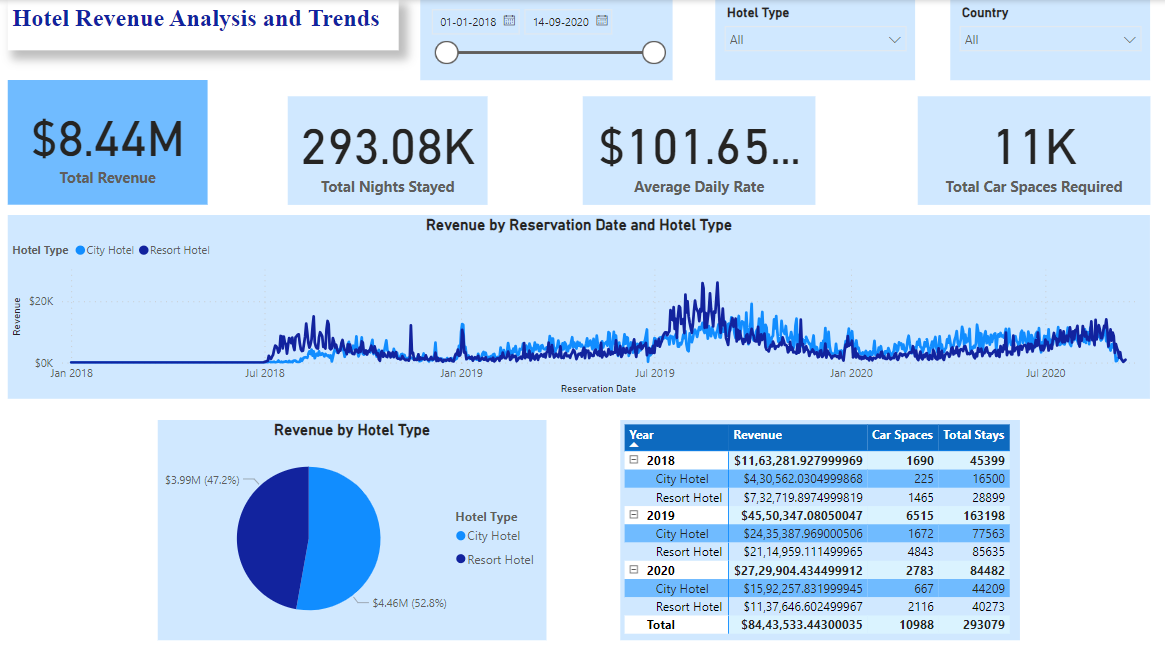

What the dashboard file says about the page in this screenshot:
{"tool":"powerbi","page":{"name":"Overall View","canvas":[1280,720],"ordinal":0},"visuals":[{"type":"textbox","box":[9.6,0,429.1,54.8],"z":0},{"type":"card","fields":{"Values":["Sum(Hotel_Data.Revenue)"]},"box":[9.6,87.7,219.4,137.1],"z":1},{"type":"card","fields":{"Values":["Sum(Hotel_Data.Total Stays)"]},"box":[316.7,105.6,219.4,119.3],"z":2},{"type":"card","fields":{"Values":["Avg(Hotel_Data.adr)"]},"box":[640.3,105.6,255,119.3],"z":3},{"type":"card","fields":{"Values":["Sum(Hotel_Data.required_car_parking_spaces)"]},"box":[1007.7,105.6,255,119.3],"z":4},{"type":"slicer","fields":{"Values":["Hotel_Data.hotel"]},"box":[785.6,0,219.4,87.7],"z":5},{"type":"slicer","fields":{"Values":["Hotel_Data.country"]},"box":[1043.4,0,219.4,87.7],"z":6},{"type":"slicer","fields":{"Values":["Hotel_Data.reservation_status_date"]},"box":[462,0,277,87.7],"z":7},{"type":"lineChart","fields":{"Y":["Sum(Hotel_Data.Revenue)"],"Category":["Hotel_Data.reservation_status_date"],"Series":["Hotel_Data.hotel"]},"box":[9.6,235.8,1253.1,201.5],"z":8},{"type":"pivotTable","fields":{"Rows":["Hotel_Data.arrival_date_year","Hotel_Data.hotel"],"Values":["Sum(Hotel_Data.Revenue)","Sum(Hotel_Data.required_car_parking_spaces)","Sum(Hotel_Data.Total Stays)"]},"box":[681.4,460.7,438.7,241.3],"z":9},{"type":"pieChart","fields":{"Category":["Hotel_Data.hotel"],"Y":["Sum(Hotel_Data.Revenue)"]},"box":[174.1,460.7,426.4,241.3],"z":10}]}

Visuals, with their boxes in screenshot pixels (x1, y1, x2, y2), scaled from the page's 1280x720 canvas onto the 1165x653 screenshot:
textbox: x1=9 y1=0 x2=399 y2=50
card - Sum(Hotel_Data.Revenue): x1=9 y1=80 x2=208 y2=204
card - Sum(Hotel_Data.Total Stays): x1=288 y1=96 x2=488 y2=204
card - Avg(Hotel_Data.adr): x1=583 y1=96 x2=815 y2=204
card - Sum(Hotel_Data.required_car_parking_spaces): x1=917 y1=96 x2=1149 y2=204
slicer - Hotel_Data.hotel: x1=715 y1=0 x2=915 y2=80
slicer - Hotel_Data.country: x1=950 y1=0 x2=1149 y2=80
slicer - Hotel_Data.reservation_status_date: x1=420 y1=0 x2=673 y2=80
lineChart - Sum(Hotel_Data.Revenue) x Hotel_Data.reservation_status_date: x1=9 y1=214 x2=1149 y2=397
pivotTable - Hotel_Data.arrival_date_year x Hotel_Data.hotel: x1=620 y1=418 x2=1019 y2=637
pieChart - Hotel_Data.hotel x Sum(Hotel_Data.Revenue): x1=158 y1=418 x2=547 y2=637
